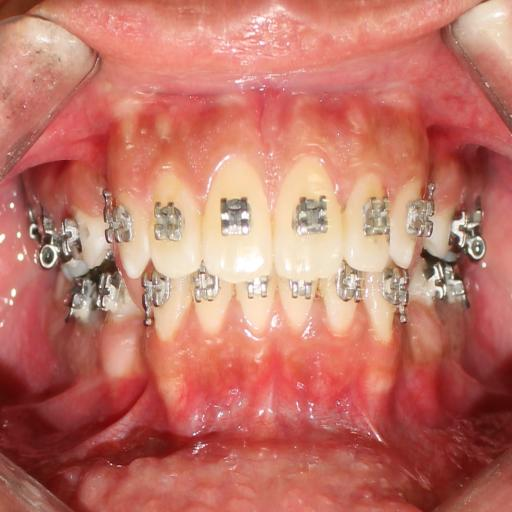correct_brace: (286, 191, 332, 238), (215, 191, 254, 243), (147, 197, 184, 244), (360, 190, 393, 242)
incorrect_brace: (144, 152, 201, 278), (343, 158, 395, 276)
